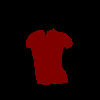polo: (25, 28, 72, 84)
